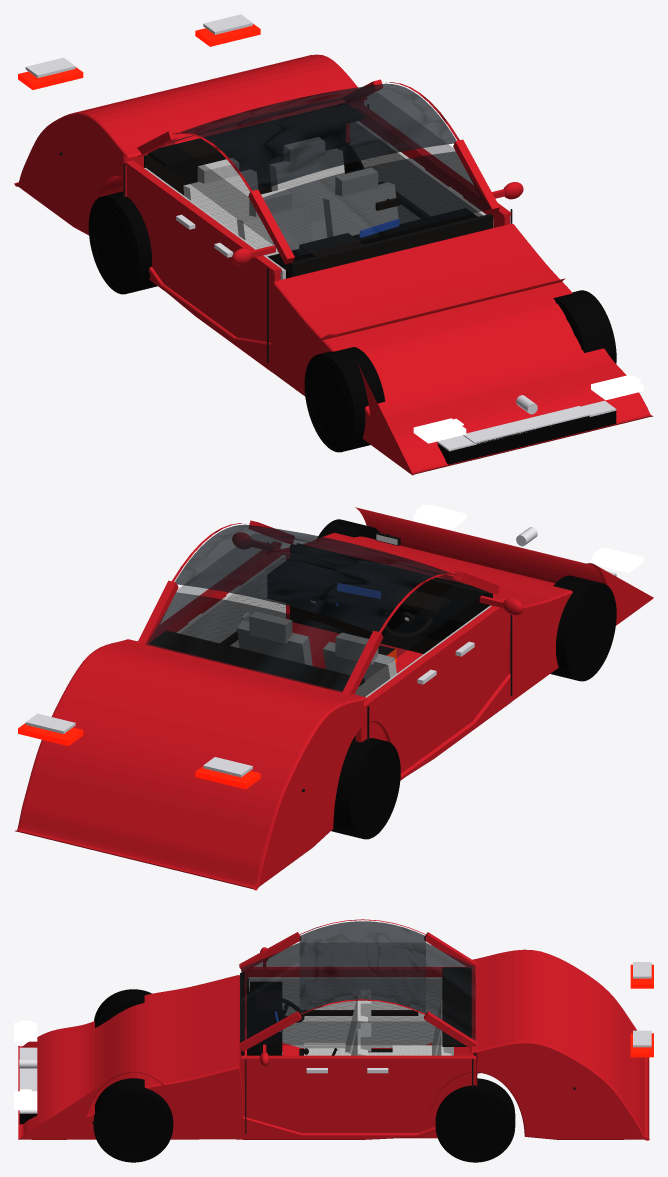
Rendered from supercar.glb.
3 views of the same model, one above another, from view 1: azimuth 30°, elevation 25°; view 2: azimuth 150°, elevation 25°; view 3: azimuth 270°, elevation 25° (orthographic). The views are drawn at different scales.
Parts seen in each view (by area): view 1: BodyShell, PanoramicRoof, Windshield, Wheel (×3), DoorOuter_-1, InnerDoorCard_1, ParcelShelf, RearBulkhead, SideWin_-1, SeatBackR_1, Firewall, SeatBackF_1 (+16 smaller); view 2: BodyShell, PanoramicRoof, RearWindow, Wheel (×3), DoorOuter_-1, DashMain, Firewall, ParcelShelf, InnerDoorCard_1, SideWin_-1, Bar (×2), SeatBackF_1 (+12 smaller); view 3: BodyShell, DoorOuter_1, Wheel (×3), PanoramicRoof, InnerDoorCard_-1, Windshield, SideWin_1, RearWindow, ParcelShelf, DashMain, DoorSill_1, DoorOuter_-1 (+11 smaller).
Part boxes in pixels (x1,y1,x2,y2): BodyShell: [14, 54, 653, 475]; PanoramicRoof: [174, 83, 456, 190]; Windshield: [263, 151, 490, 256]; Wheel (×3): [88, 191, 616, 452]; DoorOuter_-1: [126, 166, 280, 342]; InnerDoorCard_1: [350, 121, 493, 227]; ParcelShelf: [148, 103, 364, 167]; RearBulkhead: [144, 124, 345, 195]; SideWin_-1: [148, 143, 274, 245]; SeatBackR_1: [269, 148, 344, 221]; Firewall: [290, 214, 492, 277]; SeatBackF_1: [323, 182, 398, 237]; BodyShell: [14, 507, 653, 890]; PanoramicRoof: [175, 524, 457, 631]; RearWindow: [146, 592, 368, 692]; Wheel (×3): [317, 519, 616, 839]; DoorOuter_-1: [355, 608, 510, 780]; DashMain: [267, 558, 487, 640]; Firewall: [290, 544, 492, 653]; ParcelShelf: [149, 630, 364, 690]; InnerDoorCard_1: [177, 555, 285, 647]; SideWin_-1: [360, 583, 486, 684]; Bar (×2): [18, 723, 260, 789]; SeatBackF_1: [237, 621, 312, 665]; BodyShell: [18, 949, 649, 1140]; DoorOuter_1: [241, 1060, 477, 1138]; Wheel (×3): [93, 989, 515, 1162]; PanoramicRoof: [299, 921, 425, 1013]; InnerDoorCard_-1: [248, 977, 441, 1047]; Windshield: [241, 943, 299, 1041]; SideWin_1: [256, 1021, 463, 1044]; RearWindow: [426, 943, 475, 1040]; ParcelShelf: [442, 967, 471, 1046]; DashMain: [247, 982, 282, 1055]; DoorSill_1: [241, 1055, 476, 1060]; DoorOuter_-1: [244, 972, 441, 1028].
Size of what is drawn, in the model's own units: 2.27 by 1.47 by 5.47.
19 materials, 4 textured.
